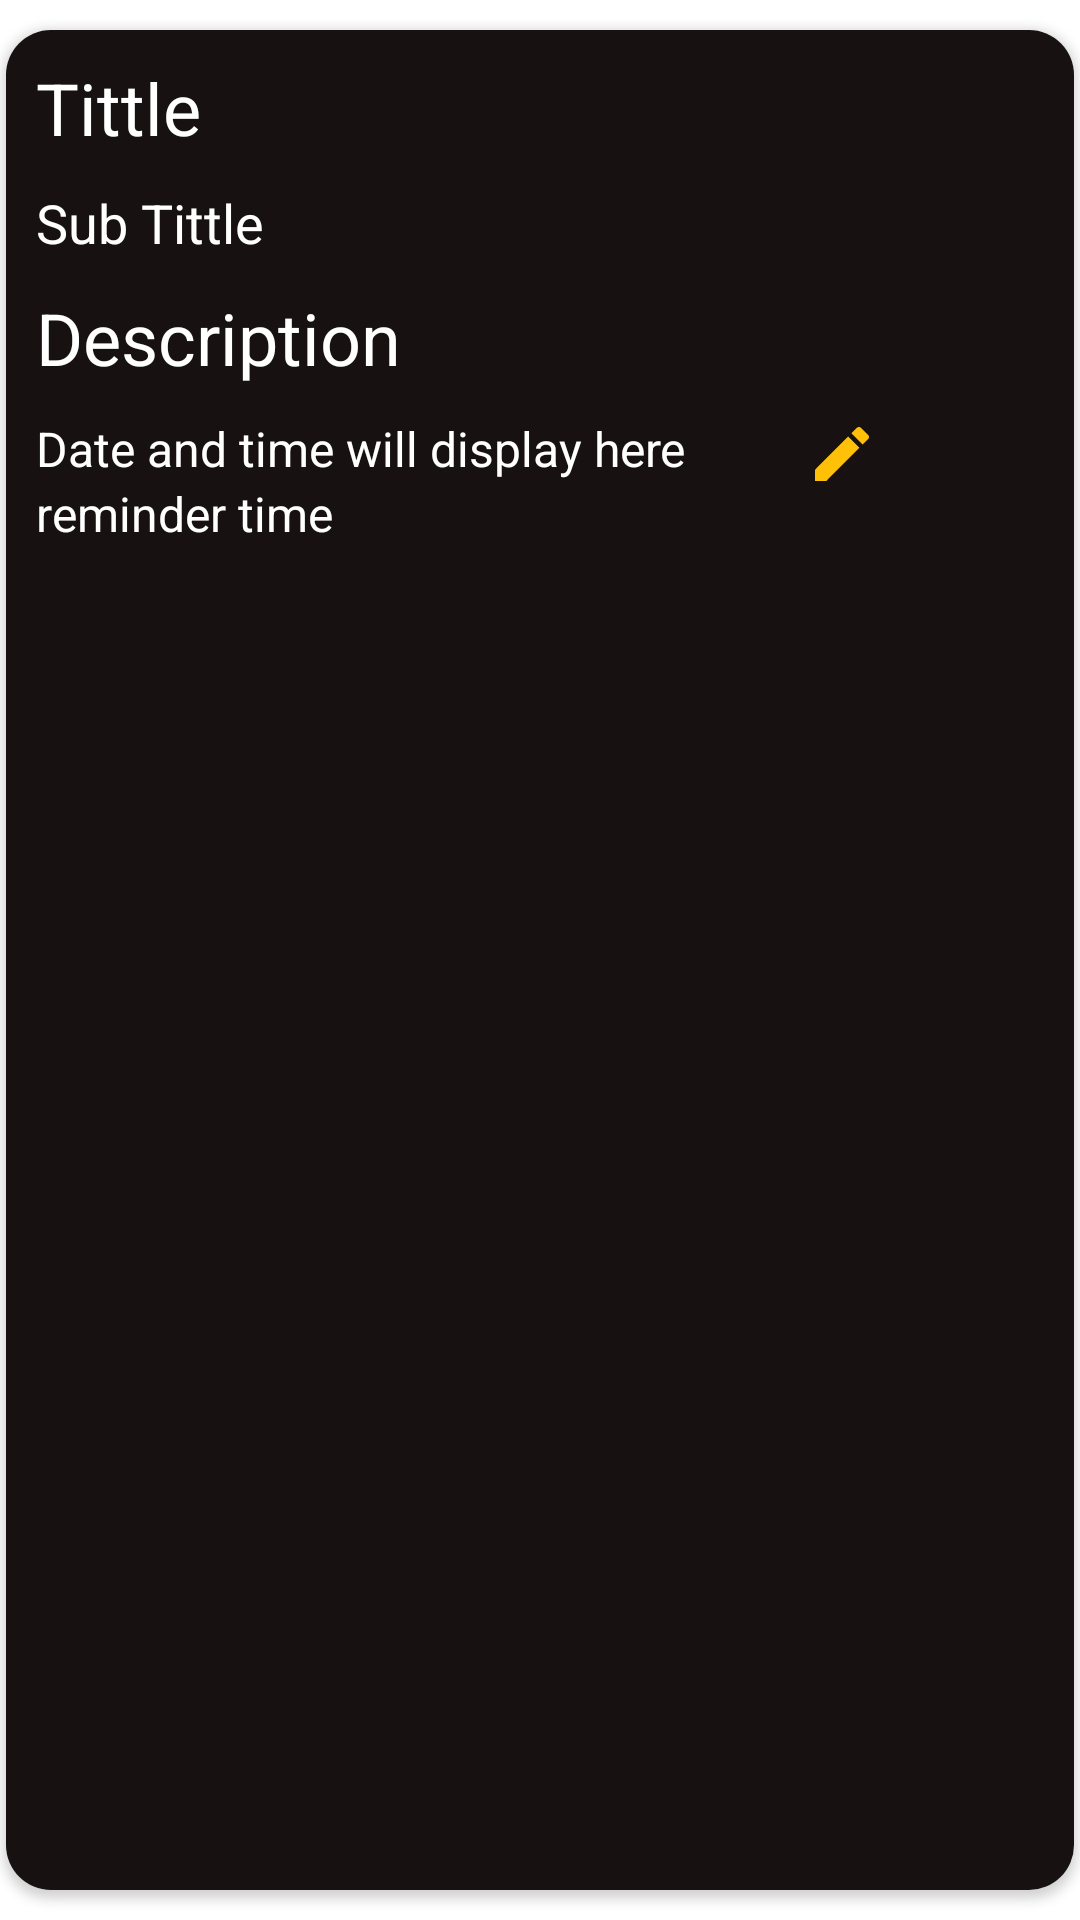

Locate icon controls on the screen. Image size 1080*1920, boxes as (x1, y1, x2, y2).
edit: (815, 427, 869, 481)
